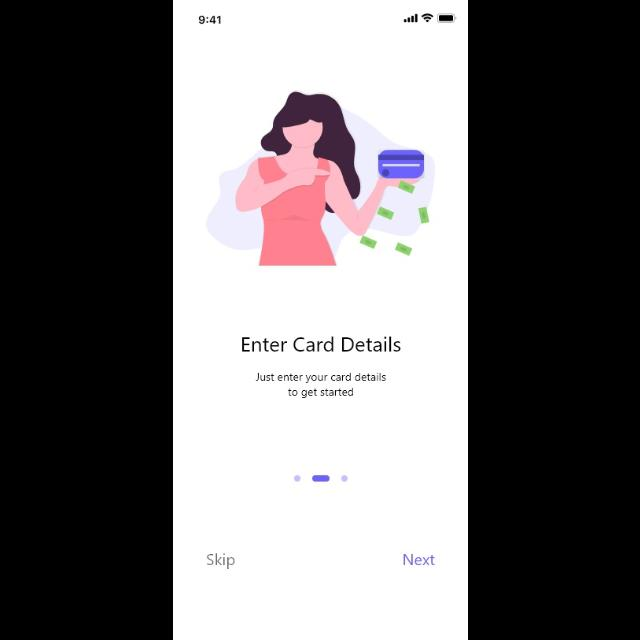image: (205, 91, 435, 266)
pageindicator: (294, 474, 348, 482)
text: (255, 372, 385, 398), (242, 337, 401, 353), (206, 552, 234, 570), (402, 554, 436, 566)
uppertaskbar: (198, 13, 456, 24)
